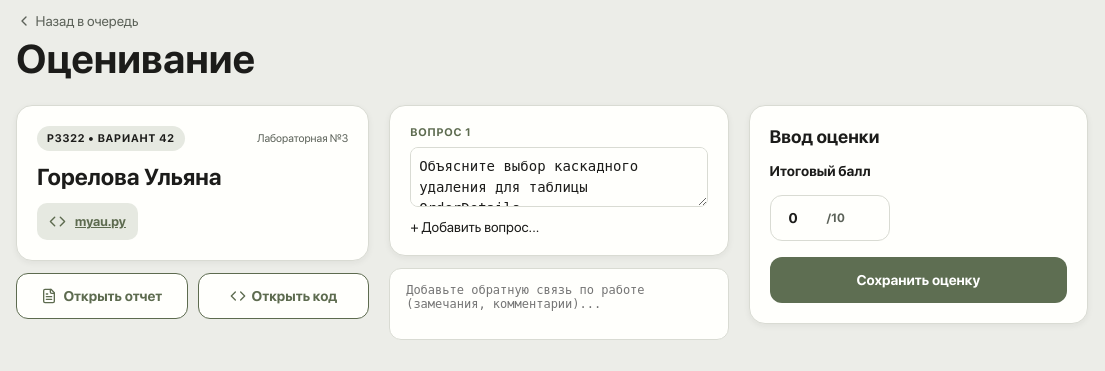
Test: TeacherGradingPage.vue › показывает ошибку при некорректном балле
Type "15" into the number field with class "grade-input" at (807, 218), box [787, 209, 827, 227]
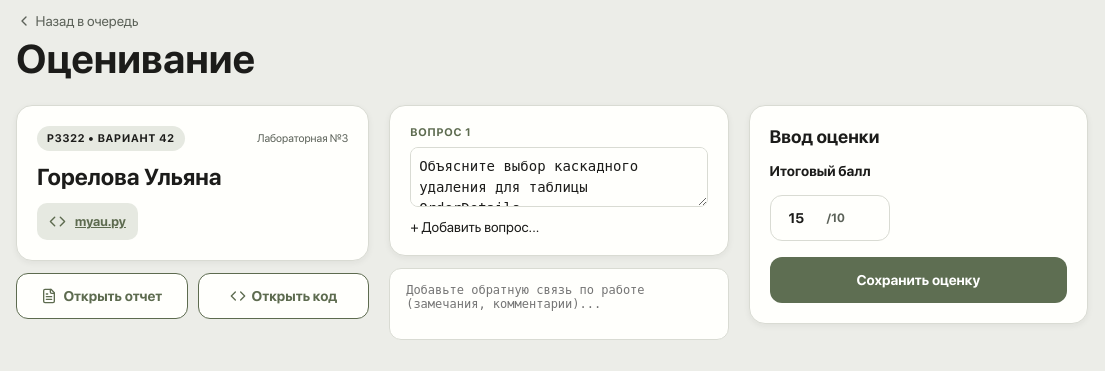
Click the button with class "save-grade-btn" at (918, 280), box [770, 257, 1067, 303]
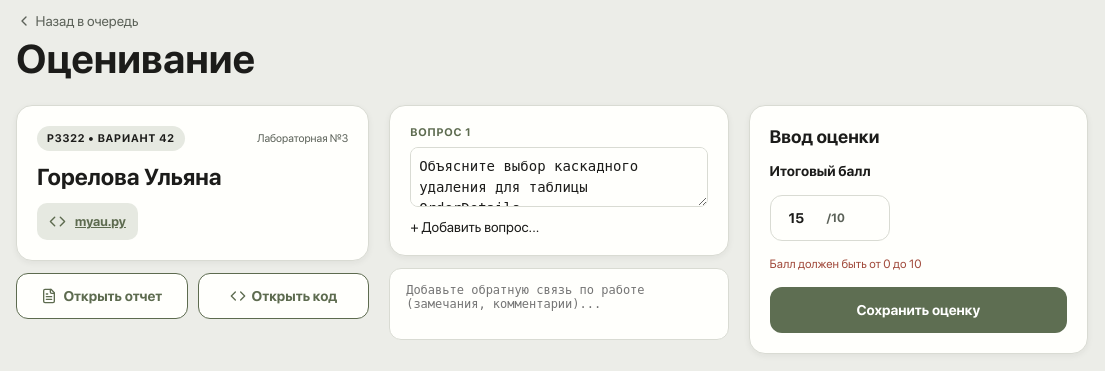
Expected: the text with class "field-error" reads "Балл должен быть от 0 до 10", [770, 257, 922, 271]
